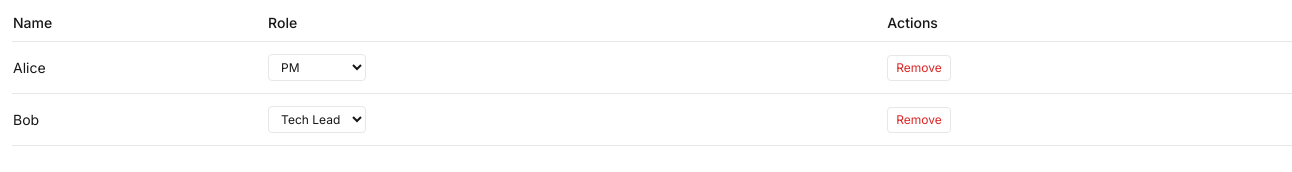
MemberList › removes member on Remove click with optimistic update
The width and height of the screenshot is (1292, 172).
Click the button with test id "remove-btn-u1". click: (919,68)
box: left=887, top=54, right=951, bottom=80
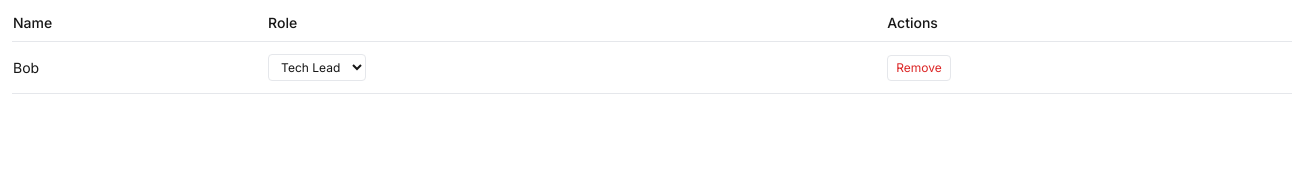
Result: the row with test id "member-row-u1" is gone
